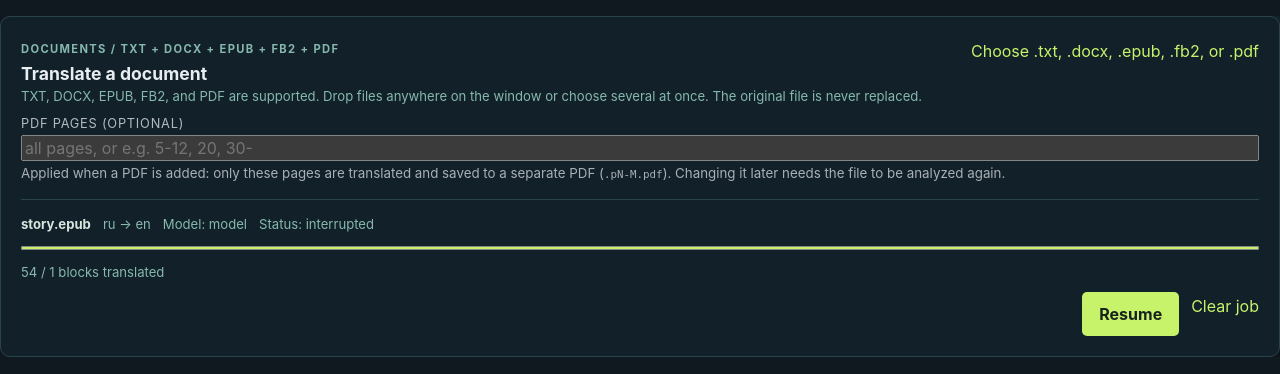
Test case: translation workspace › allows clearing an interrupted document job
Click the button "Clear job".
click(1225, 306)  # box [1191,292,1259,320]
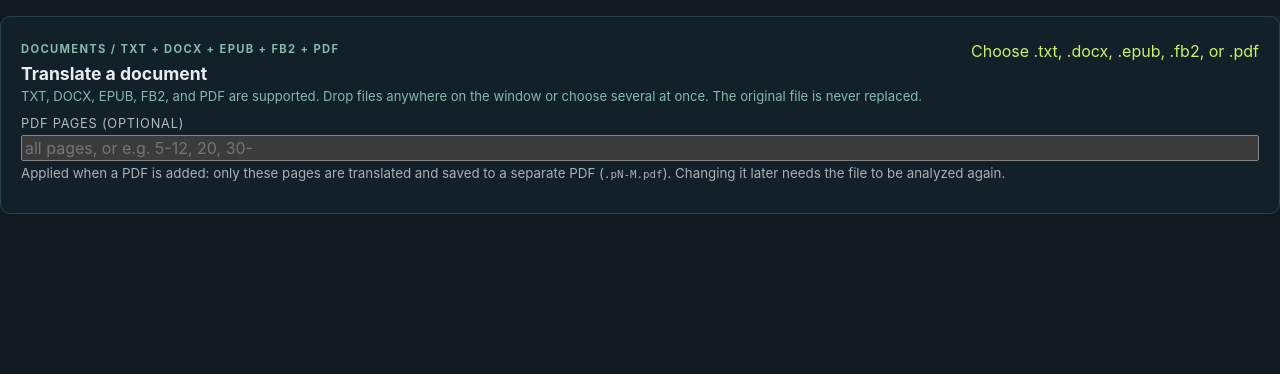
Now the text "story.epub" is gone
